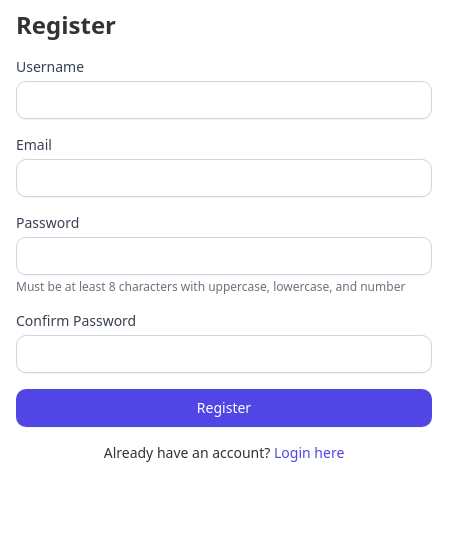
Scenario: RegistrationPage › shows success message on successful registration
Type "testuser" into the field labelled "Username" at (224, 100), box top-left (16, 81), bottom-right (432, 119)
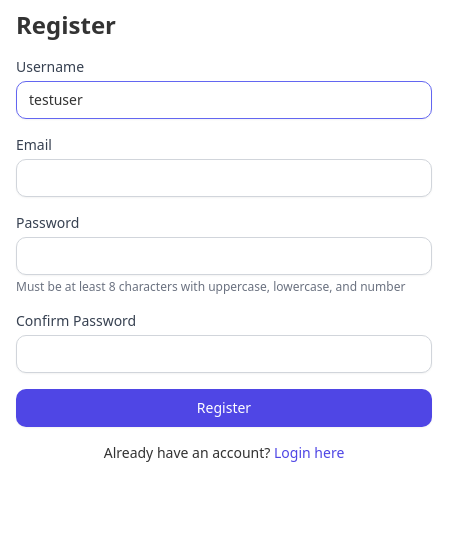
Type "test@example.com" into the field labelled "Email" at (224, 178), box top-left (16, 159), bottom-right (432, 197)
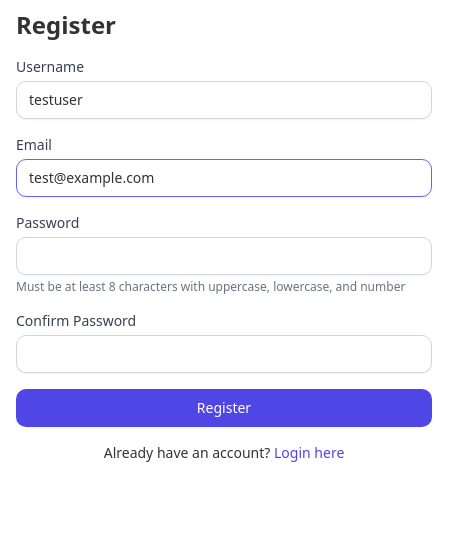
Type "Password123" into the password field labelled "Password" at (224, 256), box top-left (16, 237), bottom-right (432, 275)
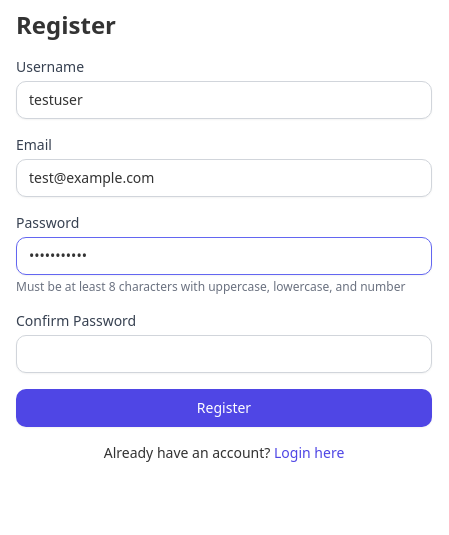
Type "Password123" into the password field labelled "Confirm Password" at (224, 354), box top-left (16, 335), bottom-right (432, 373)
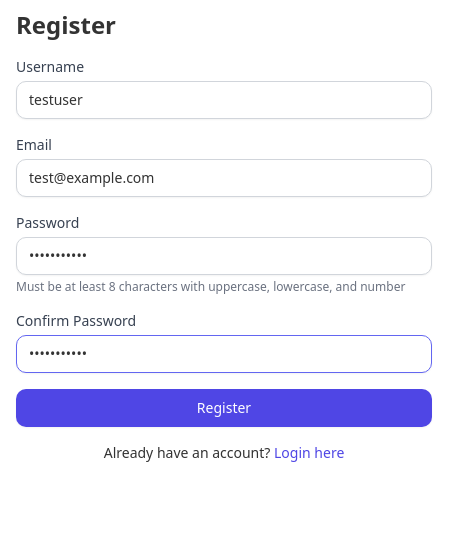
Click the button "Register" at (224, 408), box top-left (16, 389), bottom-right (432, 427)
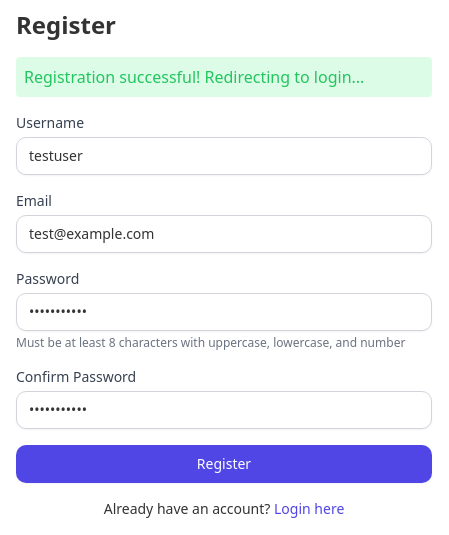
Expected: the text "Registration successful! Redirecting to login..." is shown, top-left (16, 57), bottom-right (432, 97)
